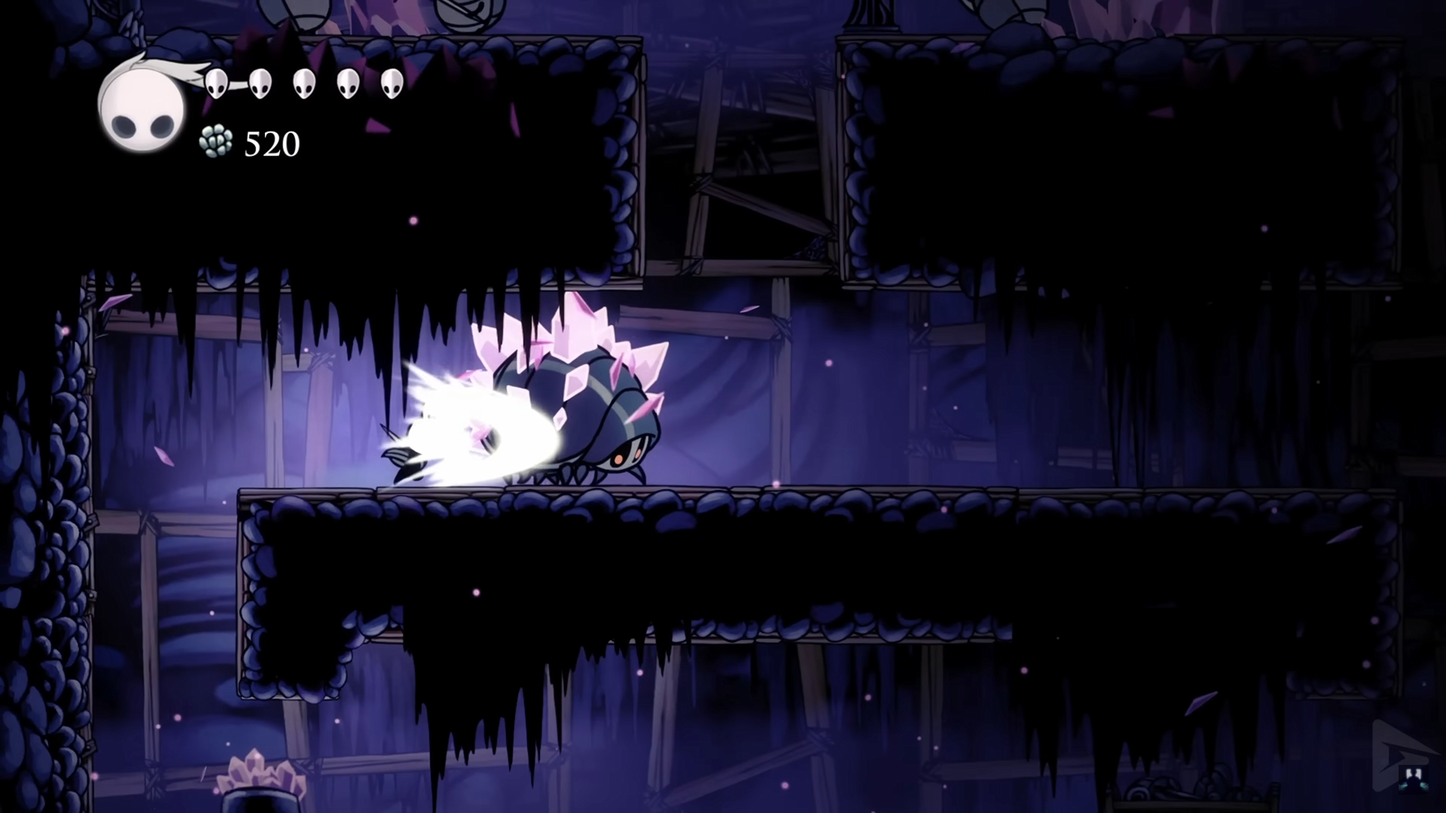HK: (385, 405, 451, 489)
